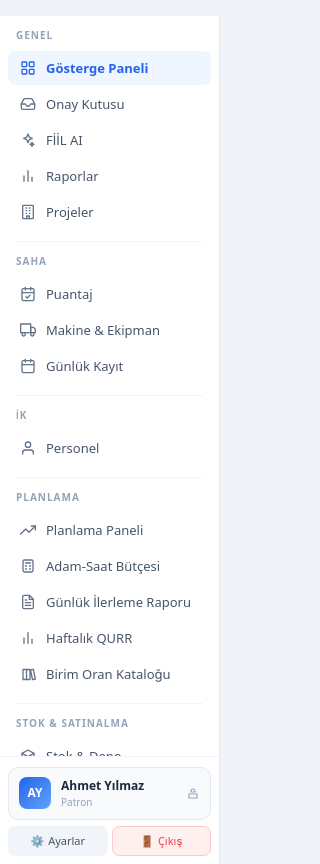
Test case: Sidebar › cikis BFF basarisiz donerse /login'e ATILMAZ, hata gosterilir
The width and height of the screenshot is (320, 864).
Click the button "🚪 Çıkış" at point(161, 841), box [112,826,211,856]
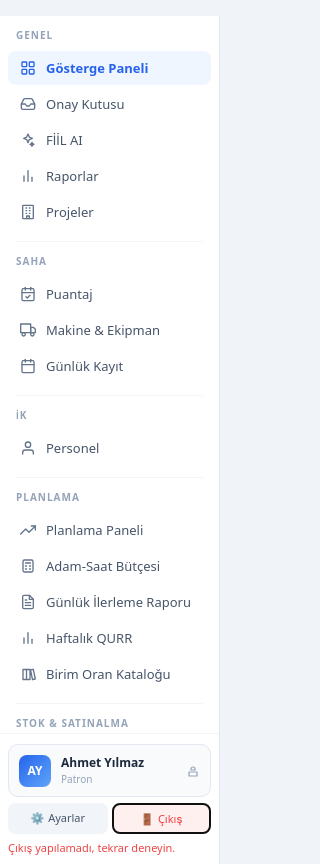
Check: the message shows "tekrar deneyin", box [8,840,175,854]
